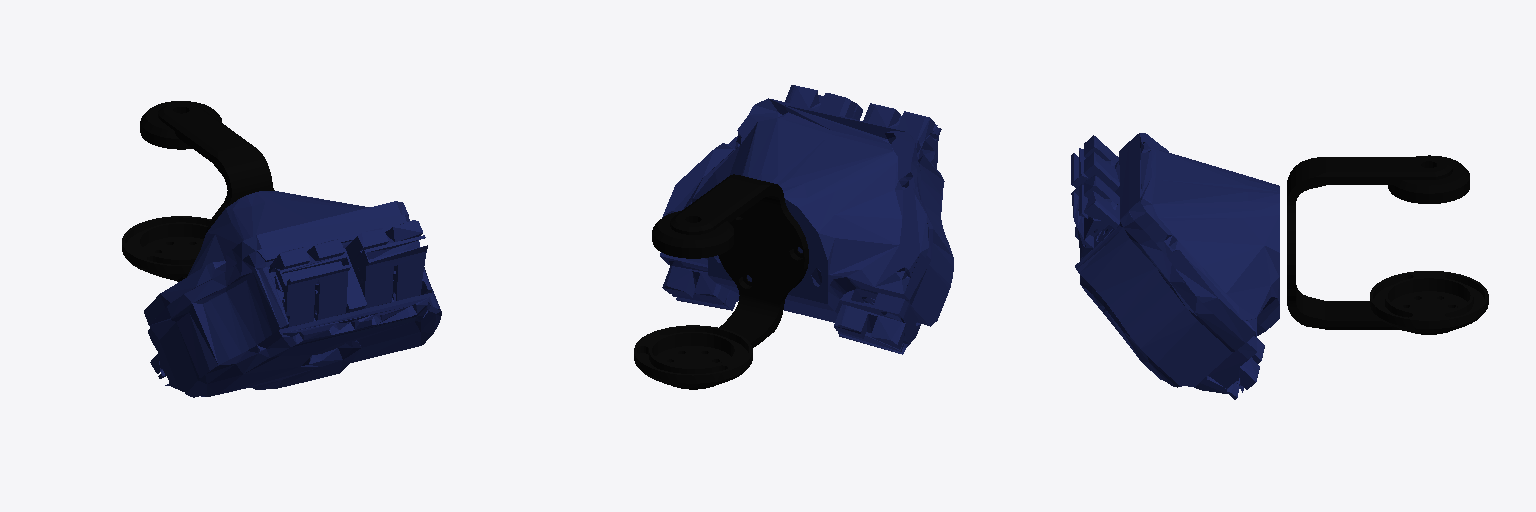
File: endEffectorWPalm_left_blue.obj
3 views of the same model, side by side, from view 1: azimuth 30°, elevation 25°; view 2: azimuth 150°, elevation 25°; view 3: azimuth 270°, elevation 25° (orthographic).
Parts seen in each view (by area): view 1: Mesh_obj0_obj0.003, wrist_yaw_right.002, wrist_yaw_right_flange.002; view 2: Mesh_obj0_obj0.003, wrist_yaw_right.002, wrist_yaw_right_flange.002; view 3: Mesh_obj0_obj0.003, wrist_yaw_right.002, wrist_yaw_right_flange.002.
Boxes of the visible parts, x1,y1,x2,y2 form: Mesh_obj0_obj0.003: [144, 191, 441, 397]; wrist_yaw_right.002: [140, 101, 274, 281]; wrist_yaw_right_flange.002: [122, 216, 210, 278]; Mesh_obj0_obj0.003: [660, 85, 953, 354]; wrist_yaw_right.002: [652, 174, 808, 389]; wrist_yaw_right_flange.002: [634, 325, 752, 387]; Mesh_obj0_obj0.003: [1071, 133, 1279, 399]; wrist_yaw_right.002: [1287, 155, 1469, 334]; wrist_yaw_right_flange.002: [1370, 271, 1488, 332].
Size of the model in its own units: 0.111 by 0.0779 by 0.1614.